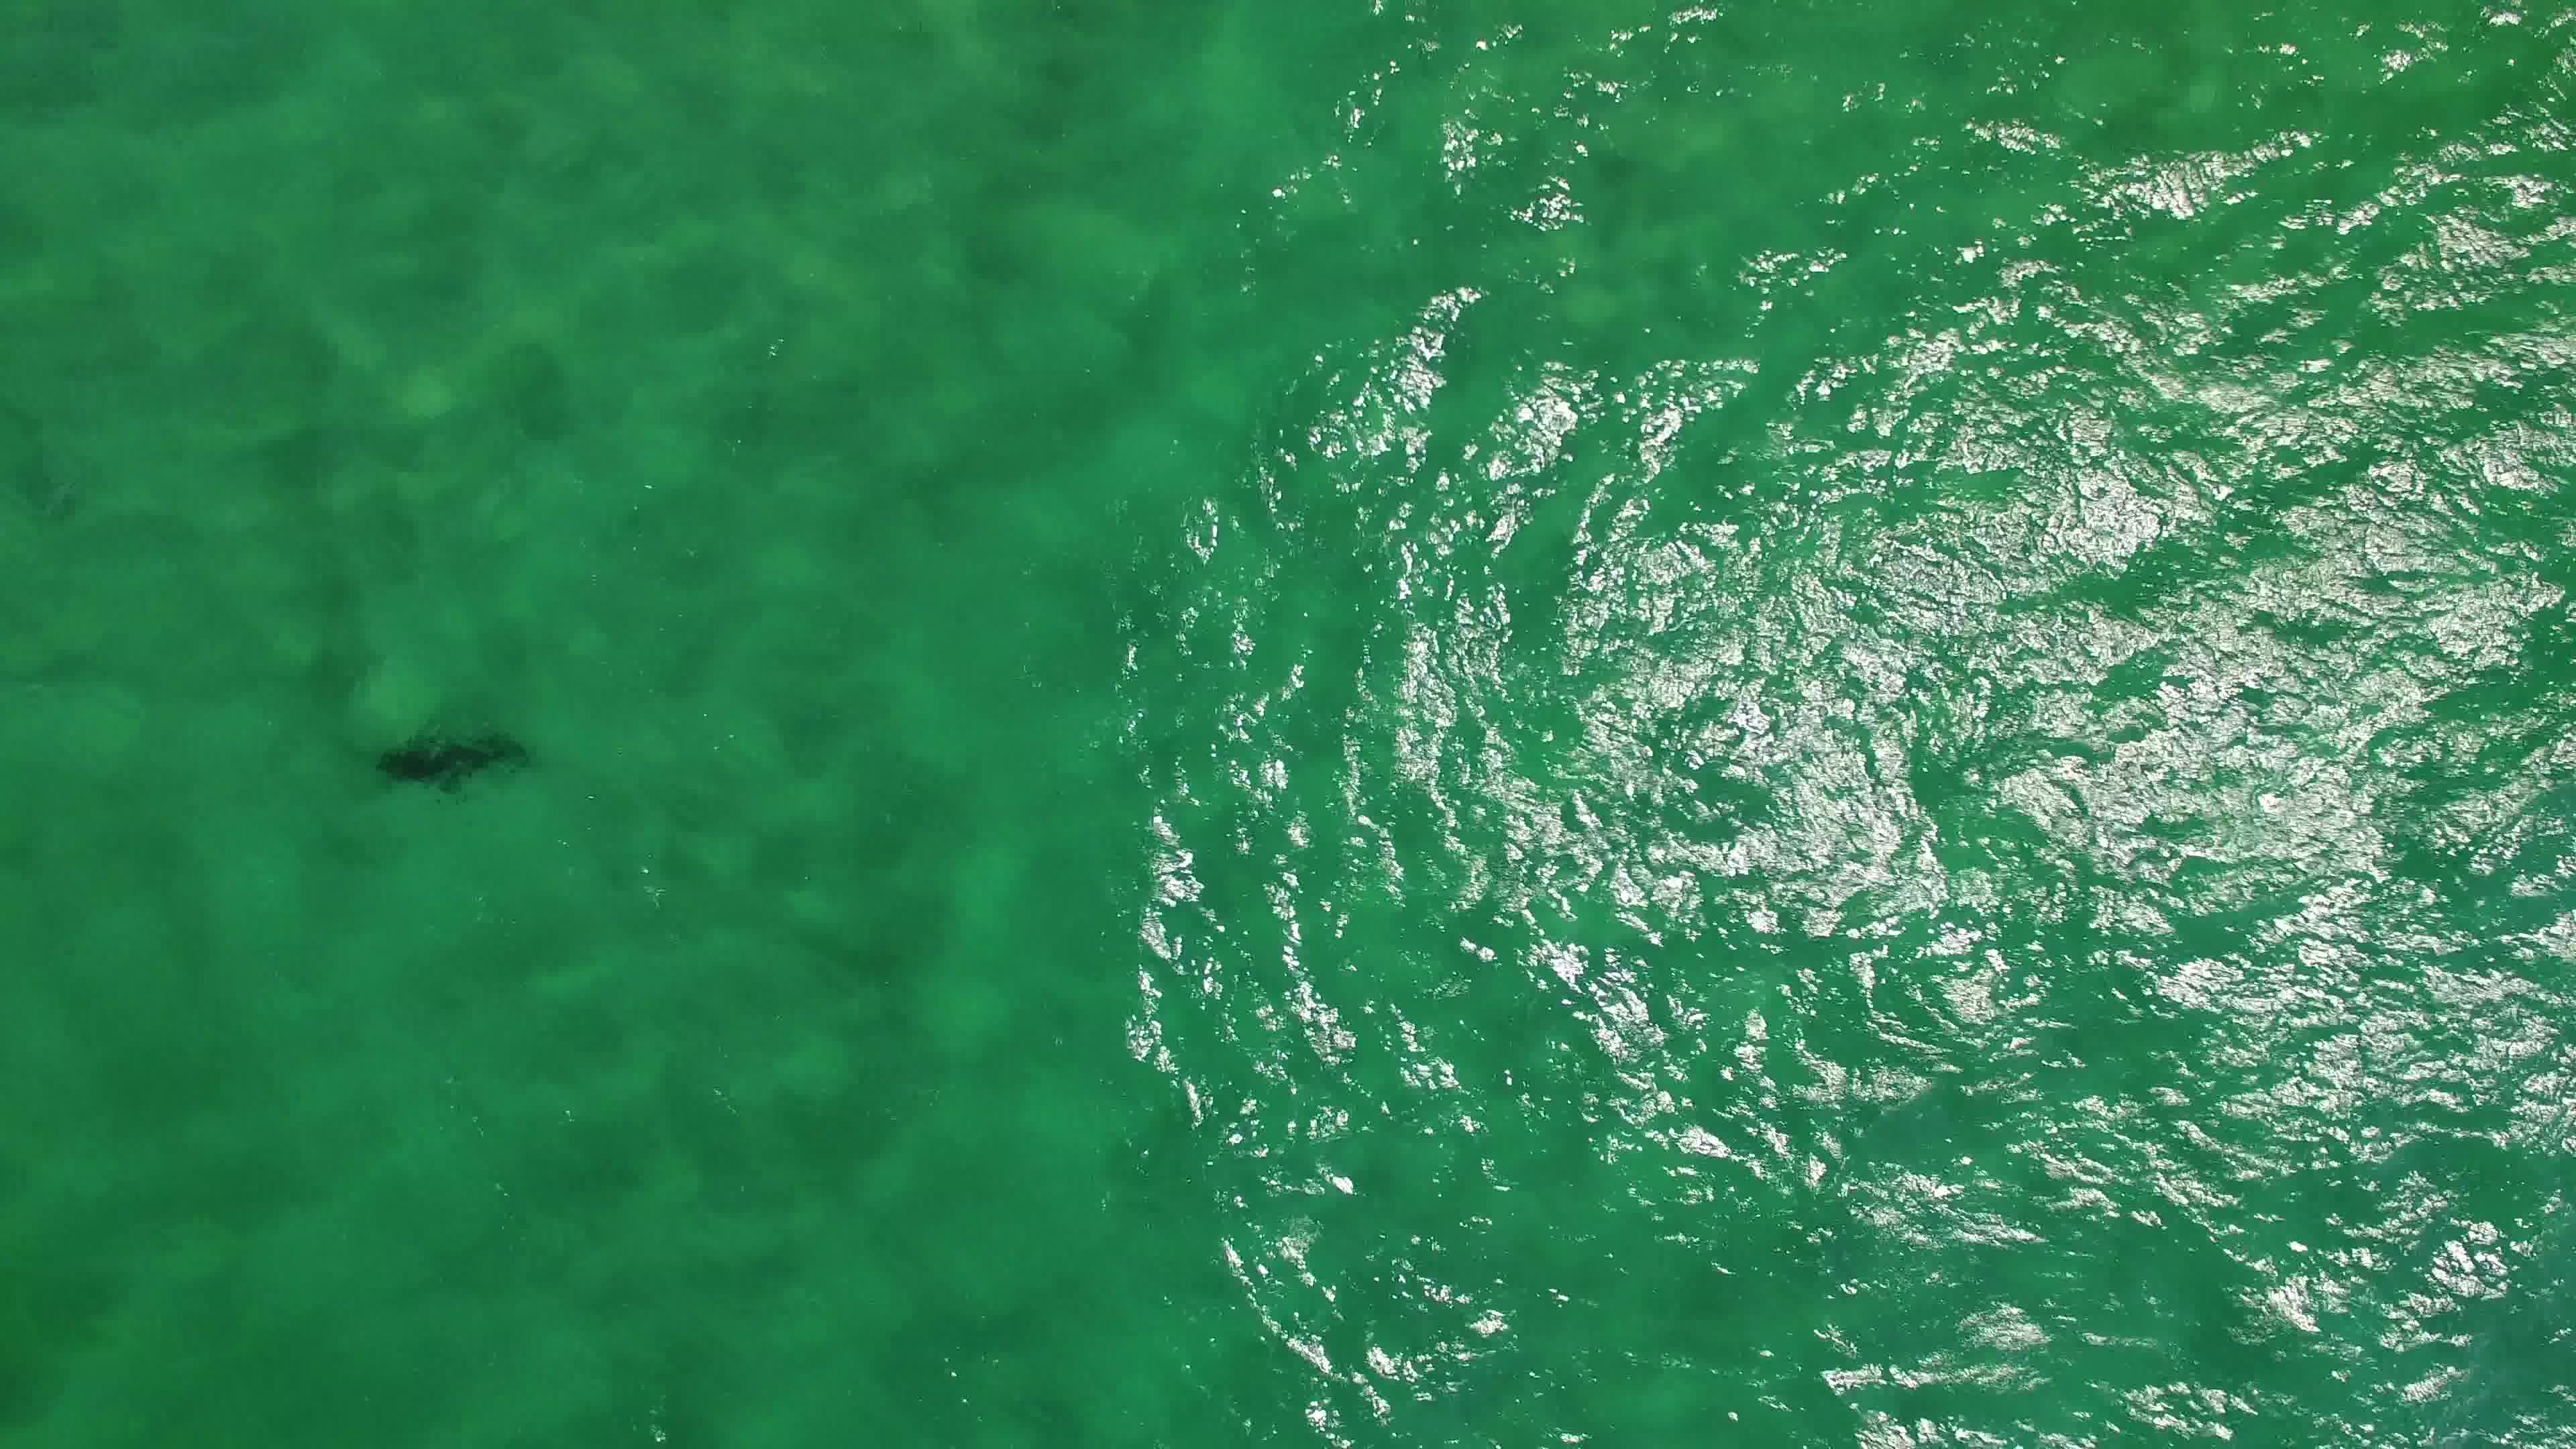shark: (368, 720, 533, 805)
